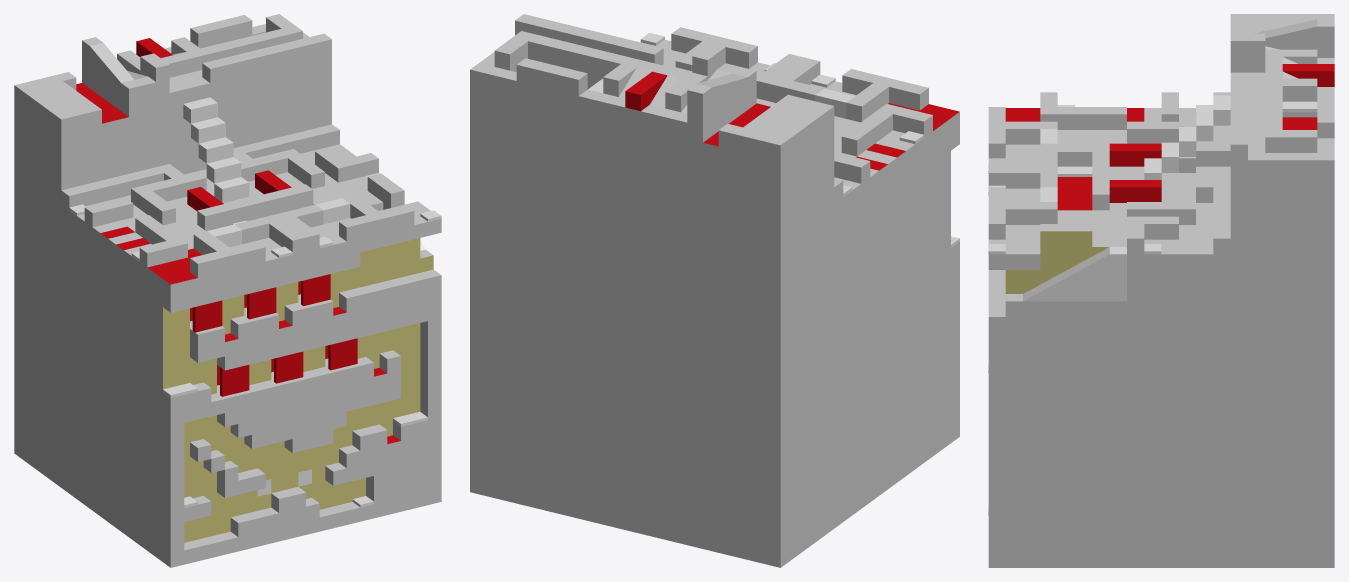
File: Nivel 3 v5.fbx
3 renders of one model, left to right at view 1: azimuth 30°, elevation 25°; view 2: azimuth 150°, elevation 25°; view 3: azimuth 270°, elevation 25°, orthographic. The views are drawn at different scales.
Visible parts, largest first — view 1: Base, Fase 2 bajada 2, Fase 1 pinchos pared 4, Fase 1 pinchos pared 3, Fase 1 pinchos pared 5, Fase 1 pinchos pared 2, Fase 1 pinchos pared 1, Fase 1 pinchos pared 6, Fase 2 escalon 3, Fase 2 escalon 4, Fase 2 escalon 5, Fase 2 escalon 2 (+4 smaller); view 2: Base, Fase 2 bajada 2, Fase 2 electrico 3, fase 2 puerta 1; view 3: Base, Fase 1 subida 1, Fase 2 bajada 2, Fase 2 electrico 1, Fase 2 electrico 2, Fase 2 electrico 3, Fase 2 escalon 1, Fase 2 escalon 2, Fase 2 escalon 4, Fase 2 escalon 3.
Boxes of the visible parts, <box> form: Base: <box>14,14,441,567</box>; Fase 2 bajada 2: <box>82,37,134,82</box>; Fase 1 pinchos pared 4: <box>192,300,222,332</box>; Fase 1 pinchos pared 3: <box>220,365,249,396</box>; Fase 1 pinchos pared 5: <box>247,287,276,319</box>; Fase 1 pinchos pared 2: <box>274,351,303,383</box>; Fase 1 pinchos pared 1: <box>328,338,357,370</box>; Fase 1 pinchos pared 6: <box>301,274,330,305</box>; Fase 2 escalon 3: <box>198,137,233,163</box>; Fase 2 escalon 4: <box>206,157,241,183</box>; Fase 2 escalon 5: <box>214,177,249,202</box>; Fase 2 escalon 2: <box>191,117,225,143</box>; Base: <box>470,14,959,567</box>; Fase 2 bajada 2: <box>687,73,747,109</box>; Fase 2 electrico 3: <box>625,71,667,111</box>; fase 2 puerta 1: <box>815,88,854,118</box>; Base: <box>988,14,1334,567</box>; Fase 1 subida 1: <box>1023,247,1126,301</box>; Fase 2 bajada 2: <box>1254,19,1334,42</box>; Fase 2 electrico 1: <box>1109,180,1161,202</box>; Fase 2 electrico 2: <box>1109,143,1161,166</box>; Fase 2 electrico 3: <box>1282,64,1334,86</box>; Fase 2 escalon 1: <box>1213,95,1230,125</box>; Fase 2 escalon 2: <box>1196,111,1213,141</box>; Fase 2 escalon 4: <box>1161,142,1178,172</box>; Fase 2 escalon 3: <box>1179,127,1196,156</box>.
Bounding box in the file's own units: 2000 × 2800 × 2001.
